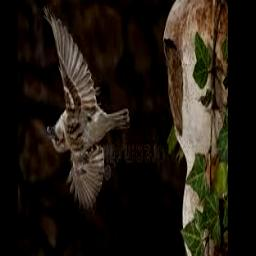Sparrow: (42, 5, 130, 211)
